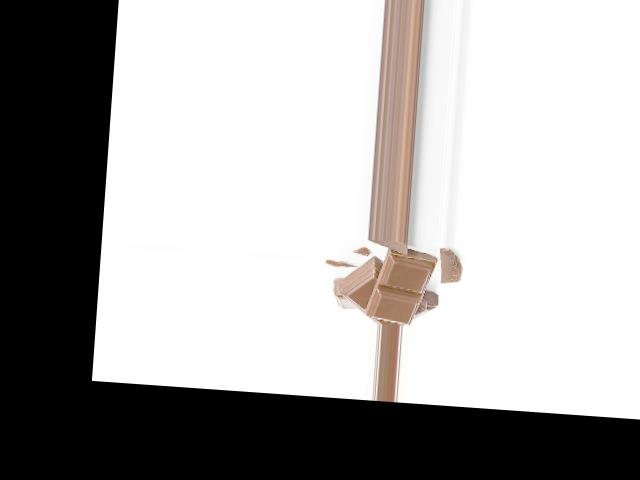chocolate: (364, 248, 435, 323)
